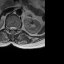CCS_normal: (11, 24, 13, 33)
LFS_normal: (16, 25, 18, 32)
LLS_normal: (13, 25, 16, 32)
RFS_normal: (7, 24, 9, 31)
RLS_normal: (9, 25, 11, 32)
